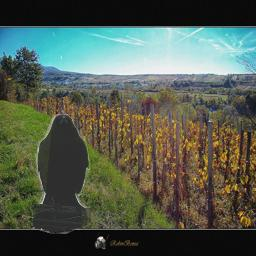Crow: (33, 114, 91, 234)
